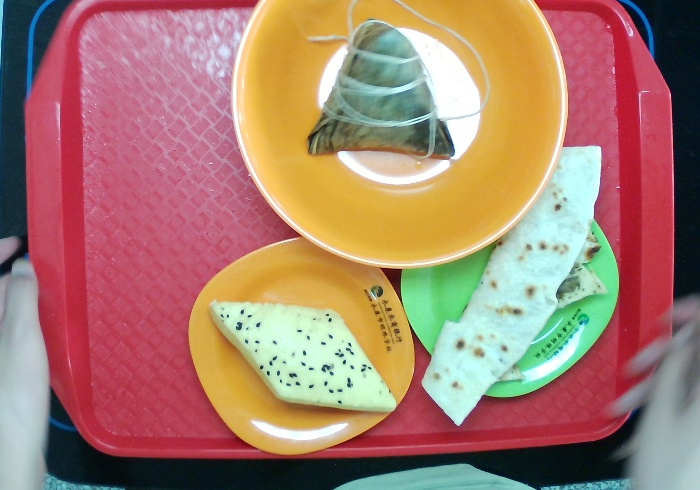YKMZ-Ju_Se_Fang_Die: (184, 235, 419, 455)
YKMZ-Ju_Se_Tang_Wan: (225, 1, 572, 274)
YKMZ-Lv_Se_Fang_Die: (398, 198, 627, 410)
